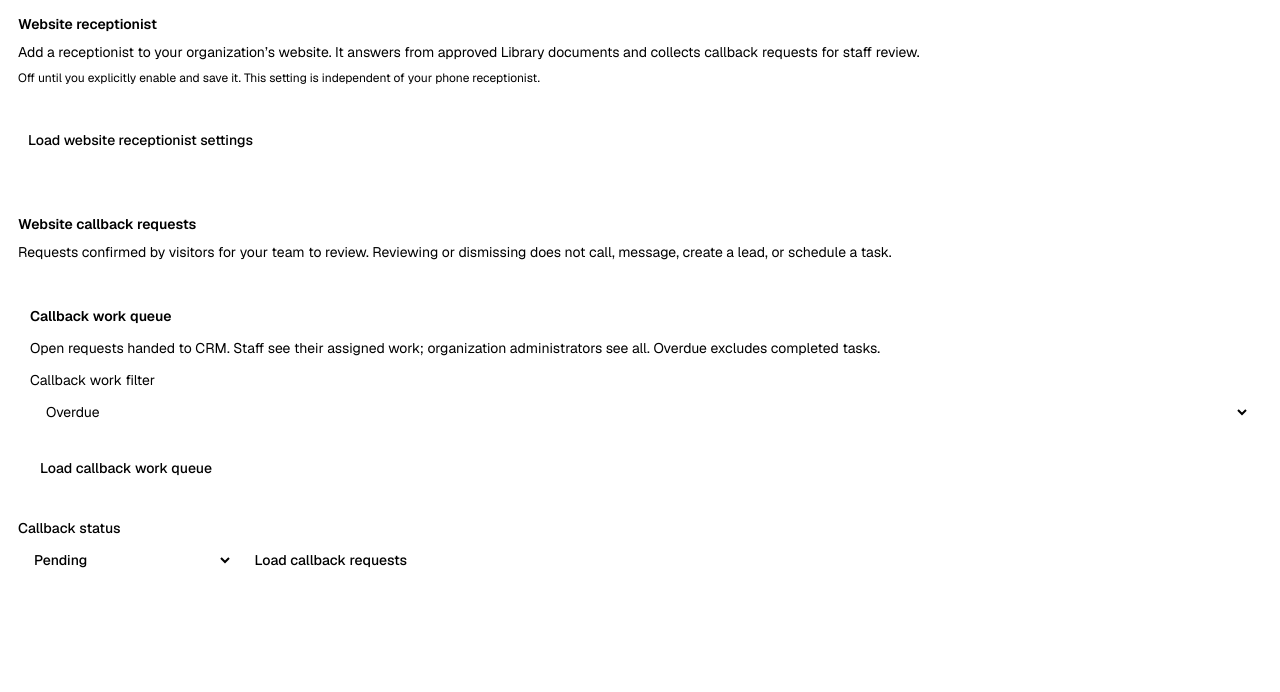
Test case: WebsiteReceptionistSettings › rejects unsafe origin http://example.com before a write
This screenshot has width=1280, height=692.
Click the button "Load website receptionist settings" at (140, 140), box [18,118,263,162]
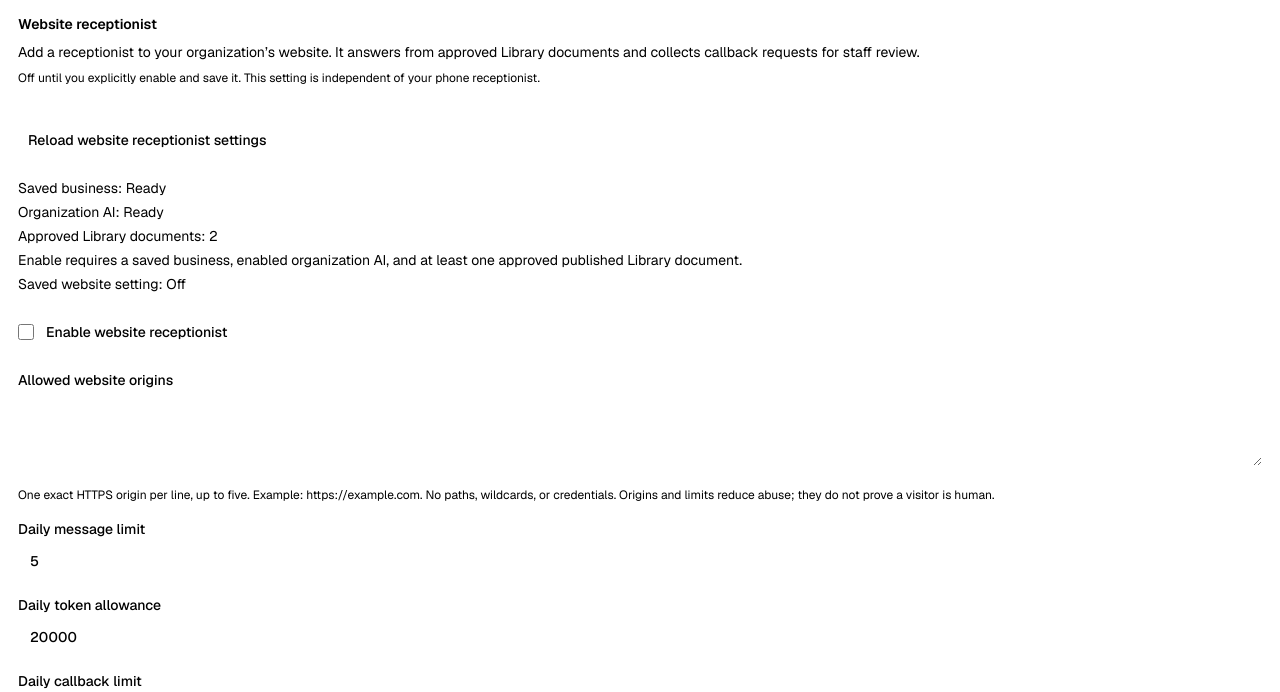
Check: the checkbox labelled "Enable website receptionist" is shown, box [18,324,34,340]
Type "http://example.com" into the text box labelled "Allowed website origins" at (640, 428), box [18,390,1262,466]
(page scrolled)
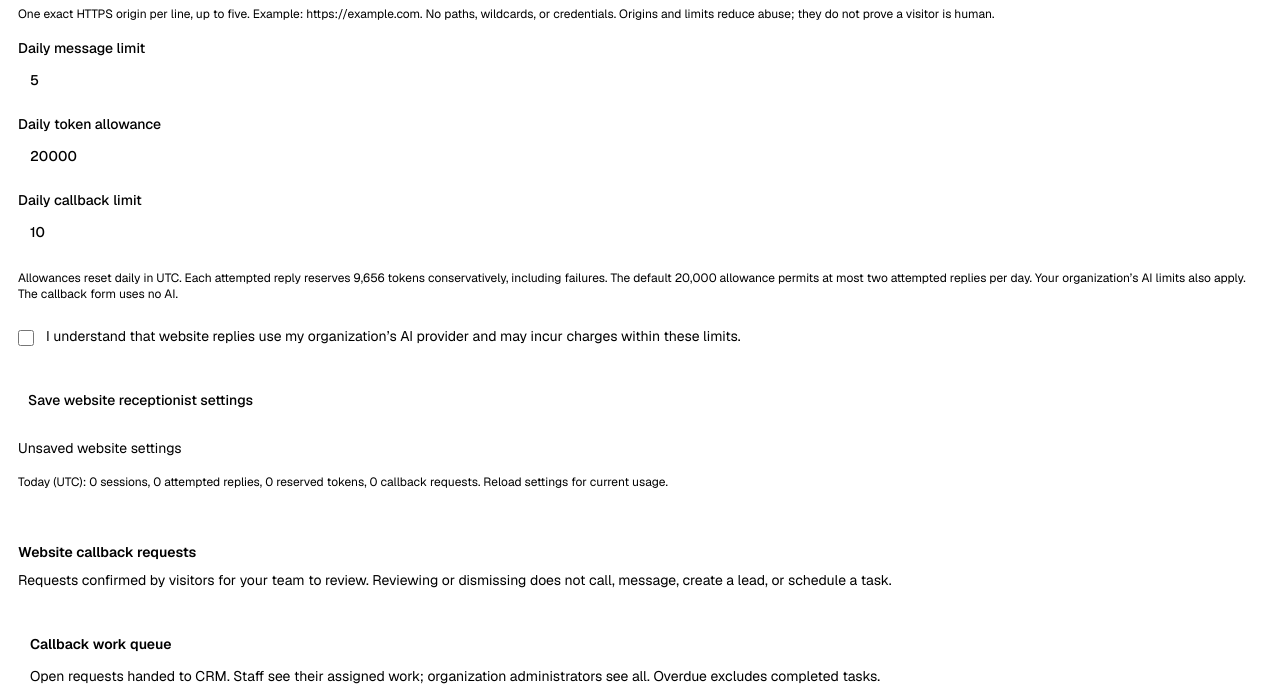
Click the button "Save website receptionist settings" at (140, 400), box [18,378,263,422]
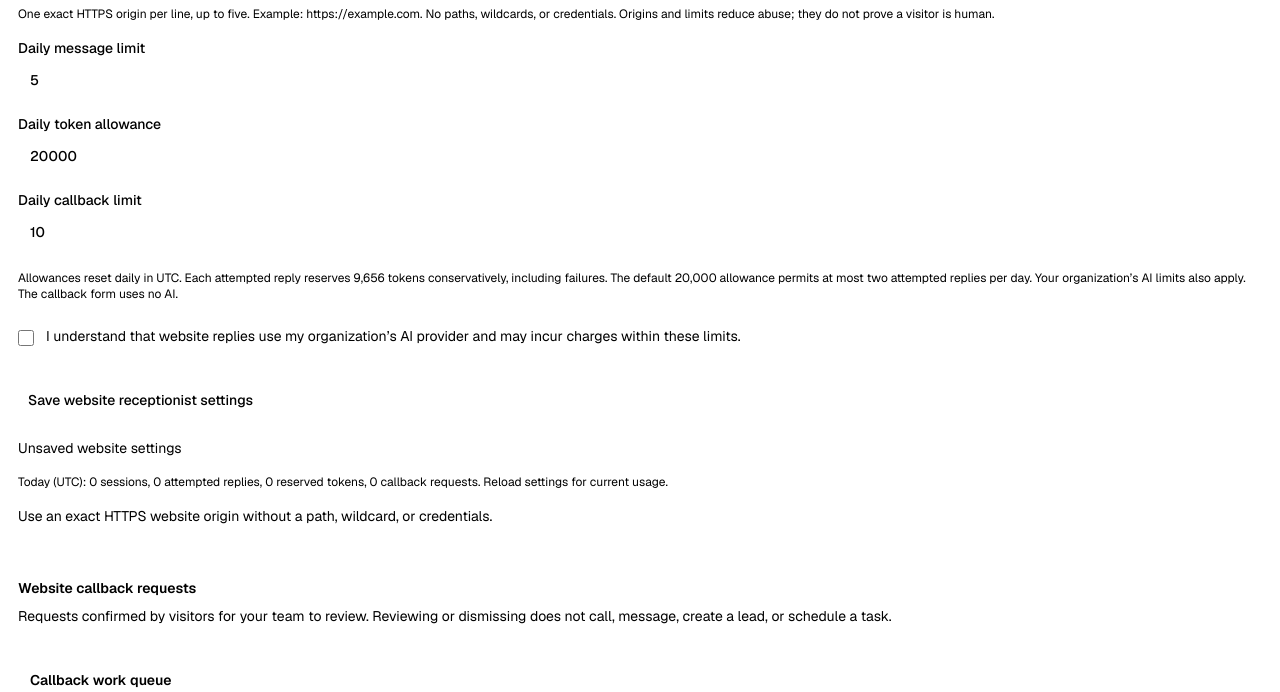
Check: the message shows "exact HTTPS", box [18,507,492,525]
